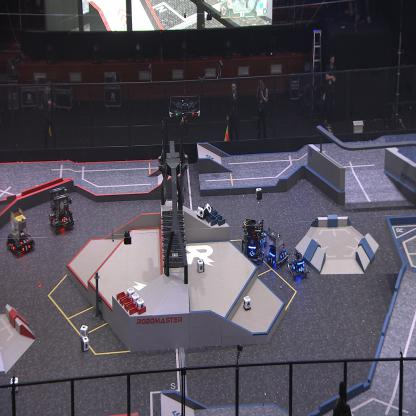car: (6, 210, 36, 258), (48, 185, 75, 233), (241, 218, 266, 265), (265, 228, 289, 268), (287, 250, 309, 280)
